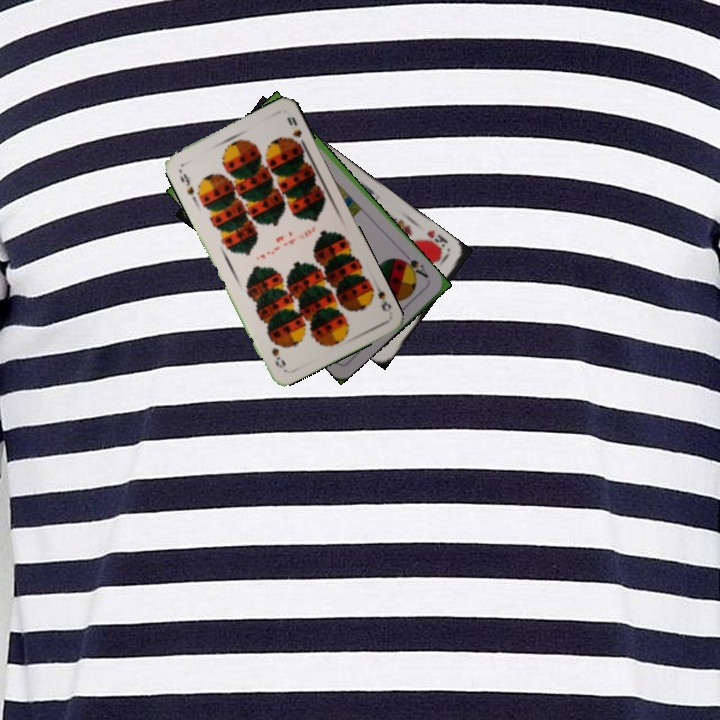HK: (417, 226, 451, 255)
S9: (364, 278, 394, 314), (176, 169, 197, 198)
SA: (396, 250, 431, 281)
